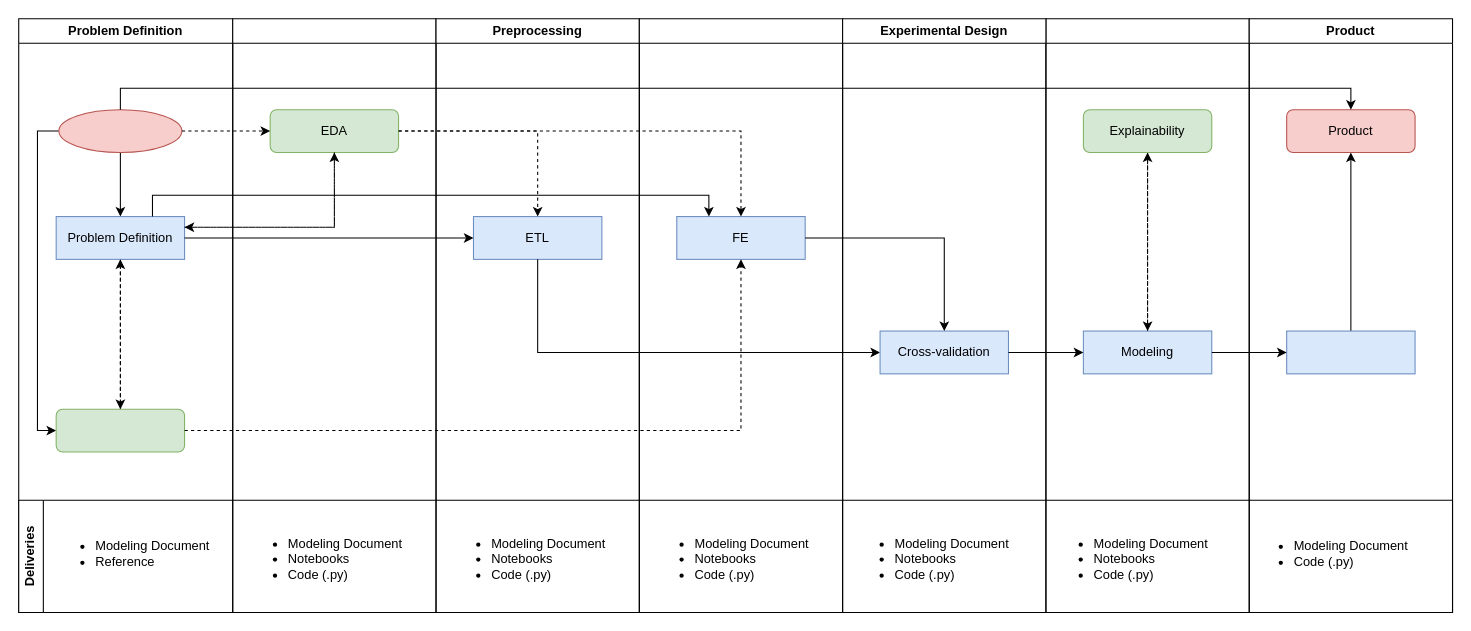
This 1471x631 diagram has some shape labels left out. Here are the shapes that lost their labels. From the top down, the box of each, then its label:
(58, 109, 182, 152): Original Idea
(232, 18, 436, 613): Exploratory Data Analysis
(638, 18, 843, 613): Feature Engineering
(1045, 18, 1249, 613): ML Modeling
(1286, 330, 1415, 374): ML Engineering
(55, 408, 185, 452): Research
